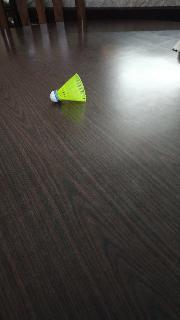shuttlecock: (50, 74, 86, 102)
